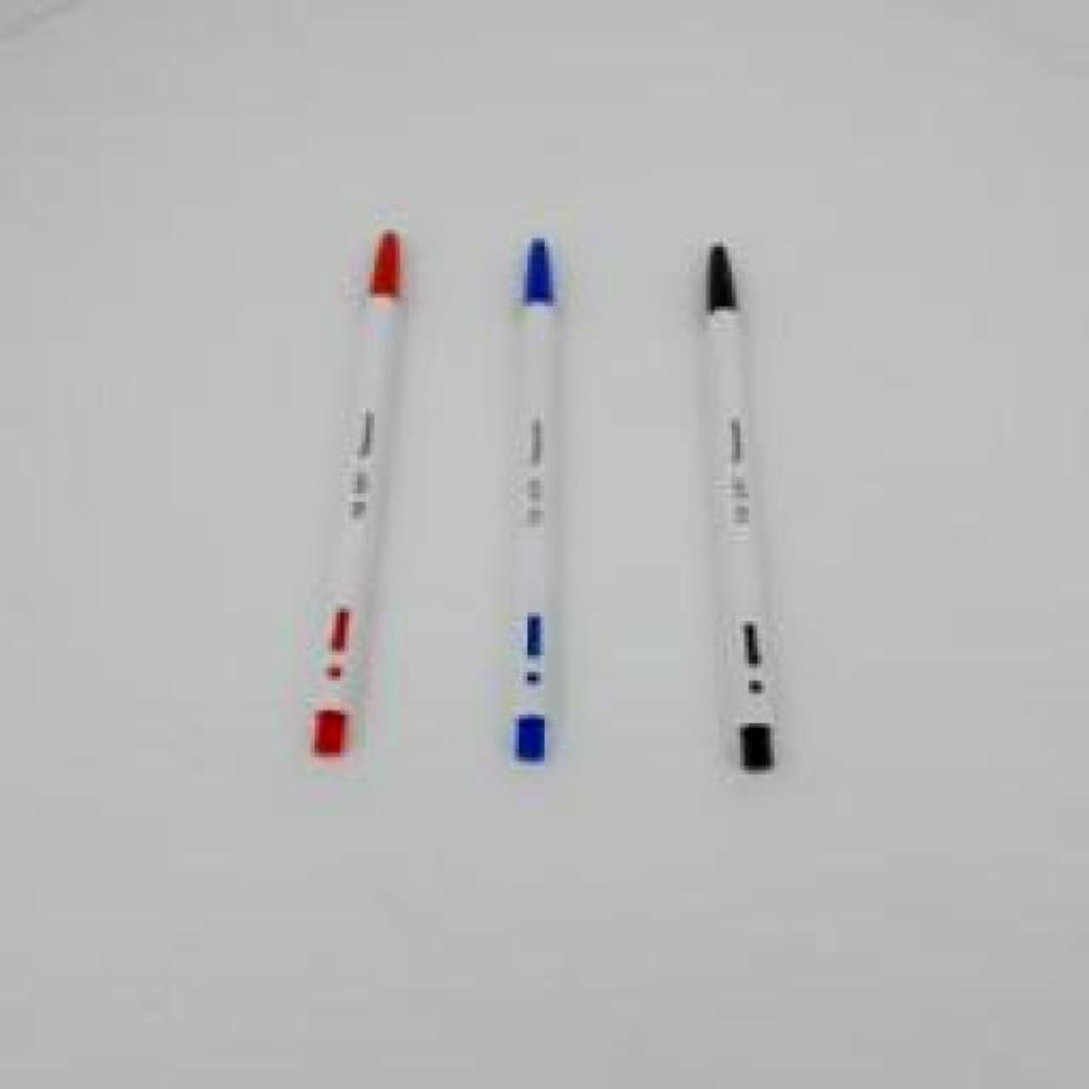pen: (687, 238, 778, 783)
